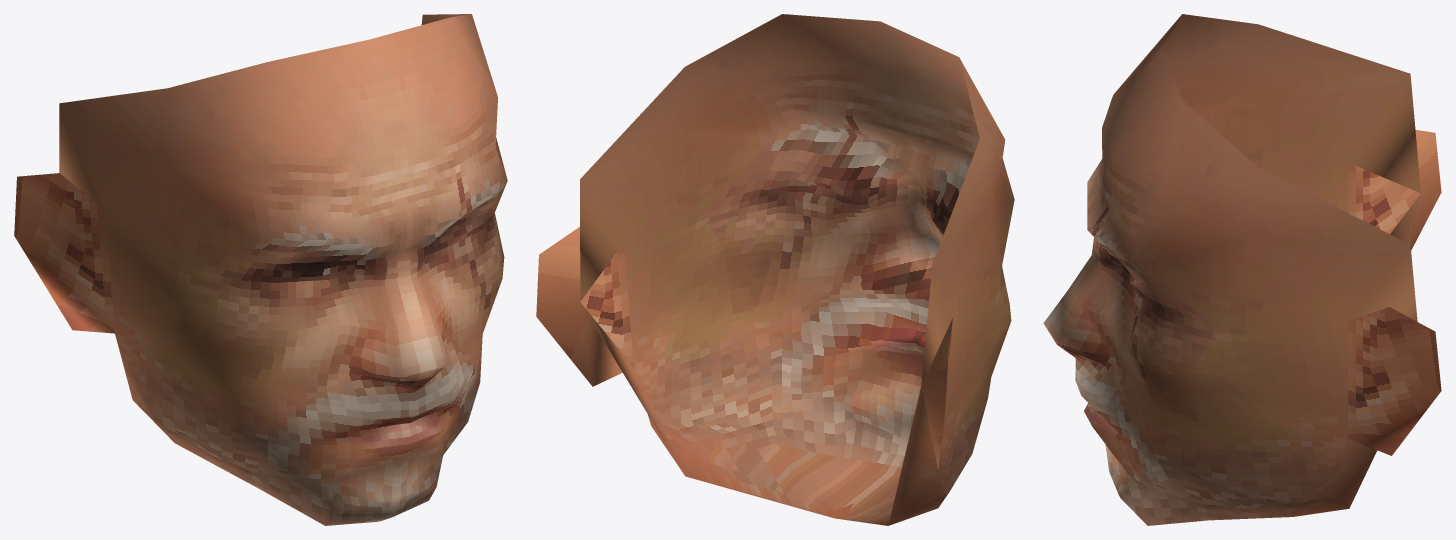
The picture shows the model from 3 angles, left to right: view 1: azimuth 30°, elevation 25°; view 2: azimuth 150°, elevation 25°; view 3: azimuth 270°, elevation 25°; orthographic projection. The views are drawn at different scales.
Parts seen in each view (by area): view 1: editpl_m-0000-132, editpl_m-0000-131; view 2: editpl_m-0000-132, editpl_m-0000-131; view 3: editpl_m-0000-132, editpl_m-0000-131.
Part boxes in pixels (x1,y1,x2,y2): editpl_m-0000-132: (14,14,507,441); editpl_m-0000-131: (115,318,482,525); editpl_m-0000-132: (536,14,1014,470); editpl_m-0000-131: (581,227,991,525); editpl_m-0000-132: (1058,14,1441,455); editpl_m-0000-131: (1043,194,1420,525).
Bounding box in the file's own units: 17.18 × 18.6 × 14.54.
1 material, 1 textured.
